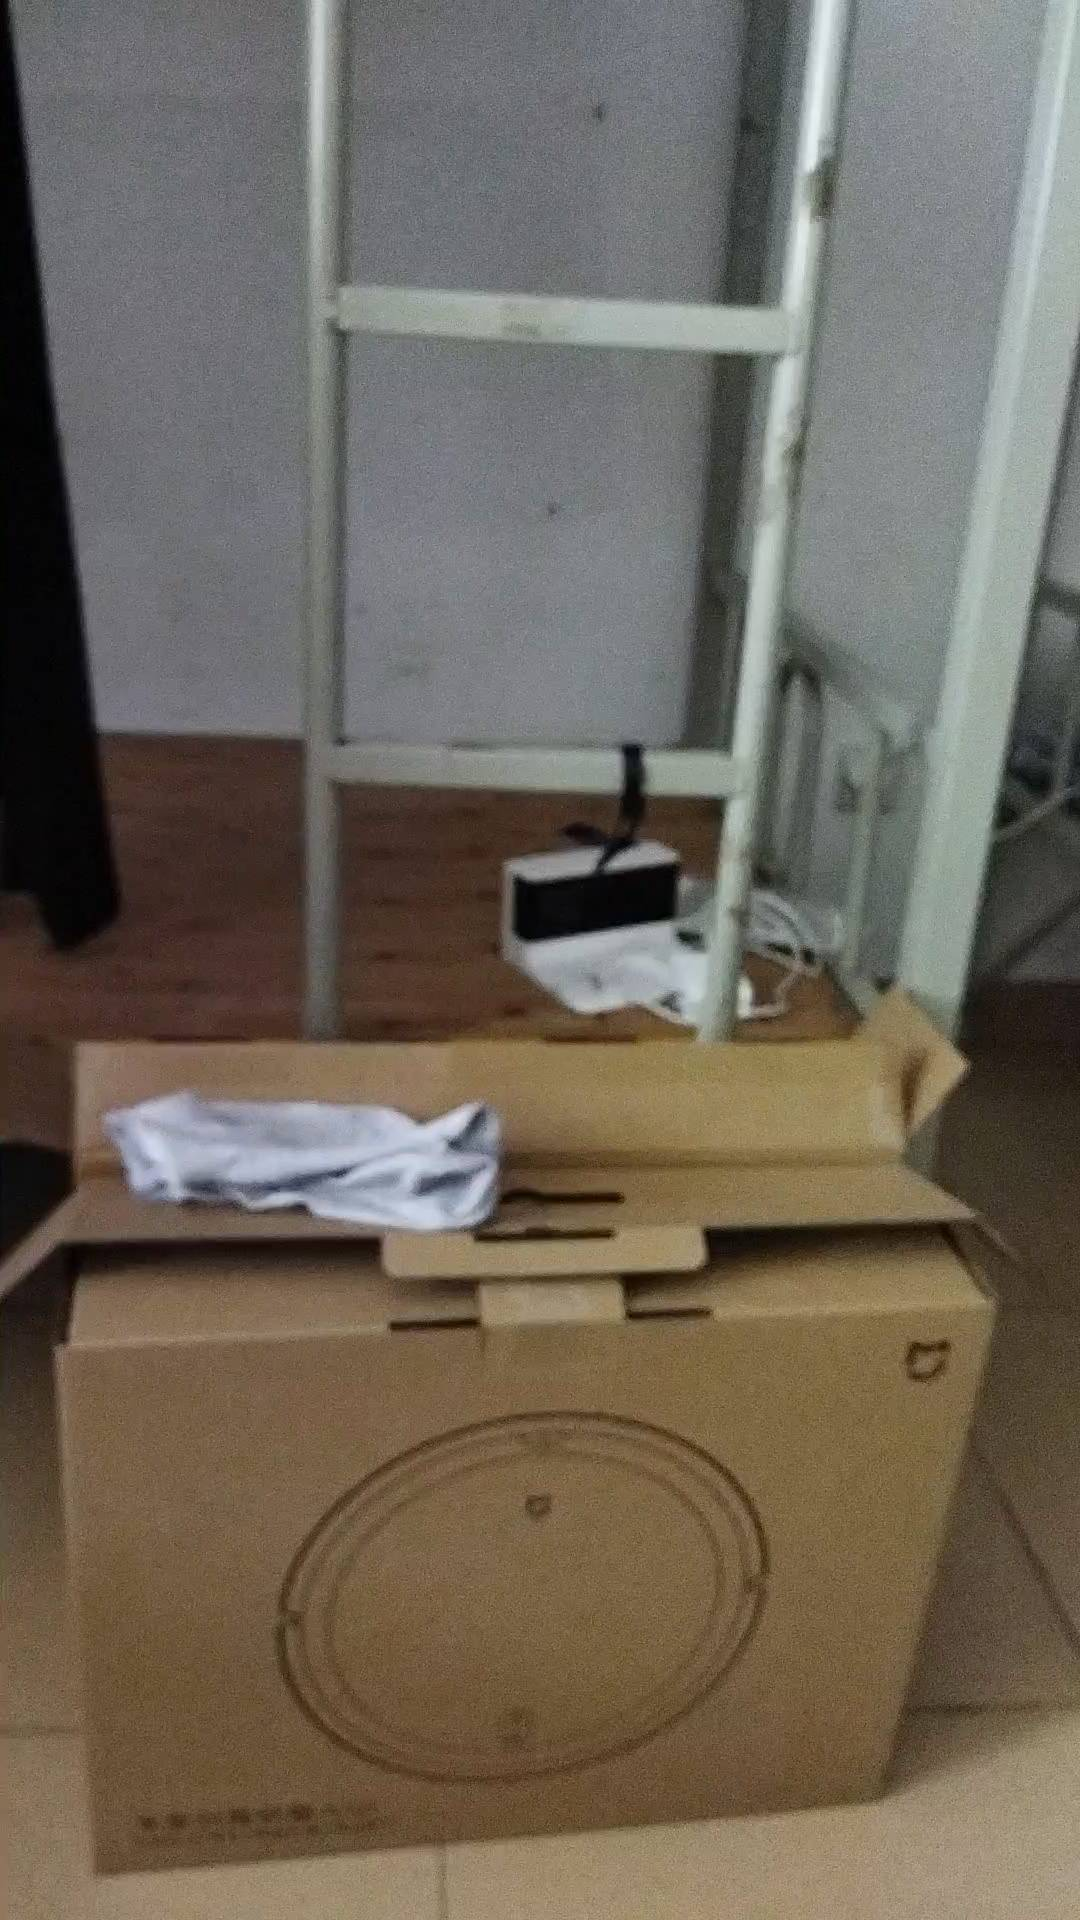recharge seat: (505, 835, 703, 1021)
